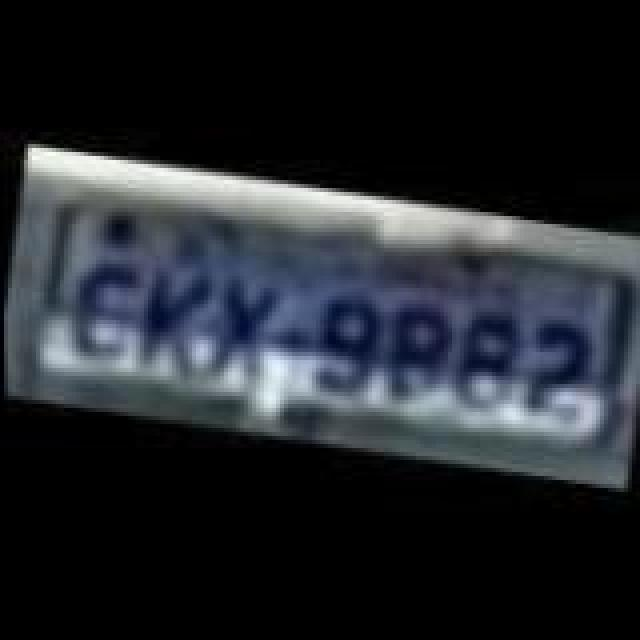2: (510, 306, 602, 422)
8: (438, 304, 530, 424), (376, 294, 464, 410)
9: (302, 286, 378, 398)
C: (64, 252, 144, 364)
K: (130, 264, 214, 380)
X: (200, 270, 288, 386)
